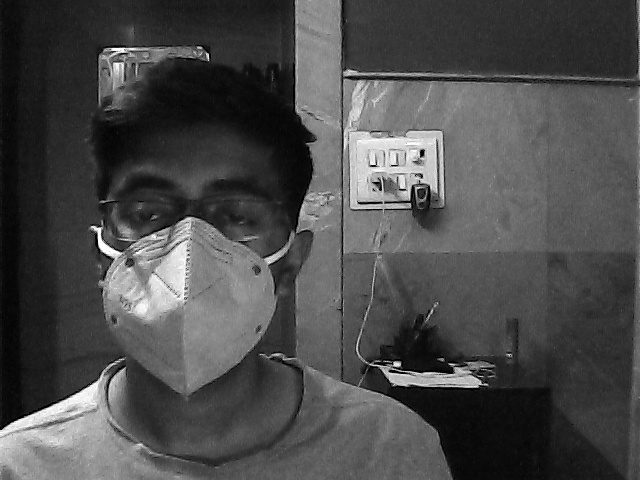mask: (102, 167, 288, 397)
